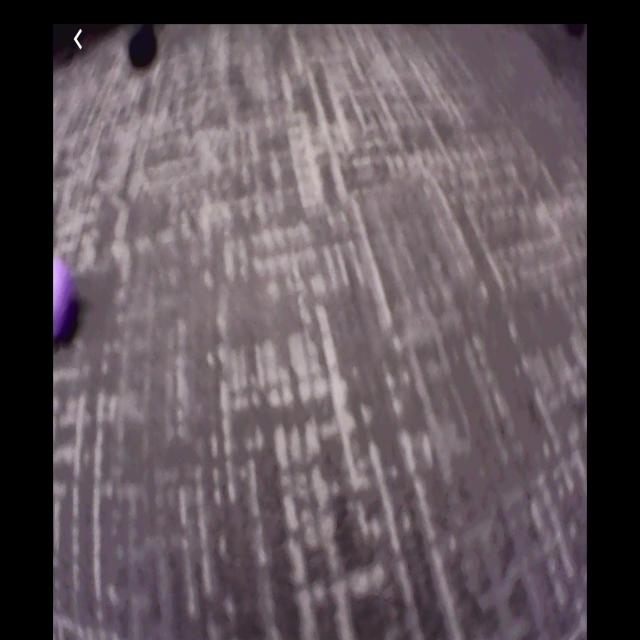ball: (55, 250, 74, 337)
